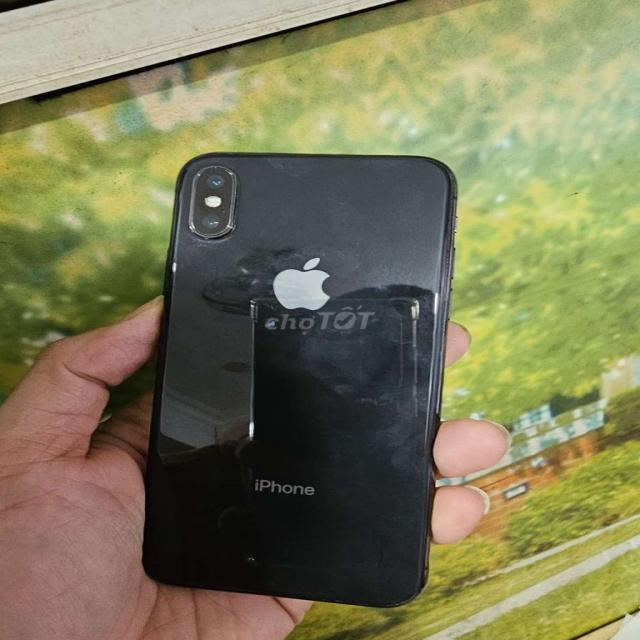gen_x_xs: (142, 153, 455, 606)
